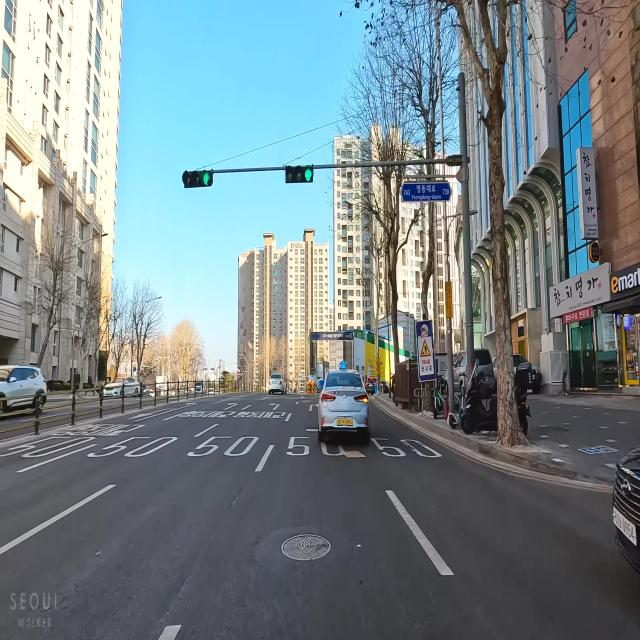Green Light: (304, 166, 314, 184), (202, 170, 211, 187)
